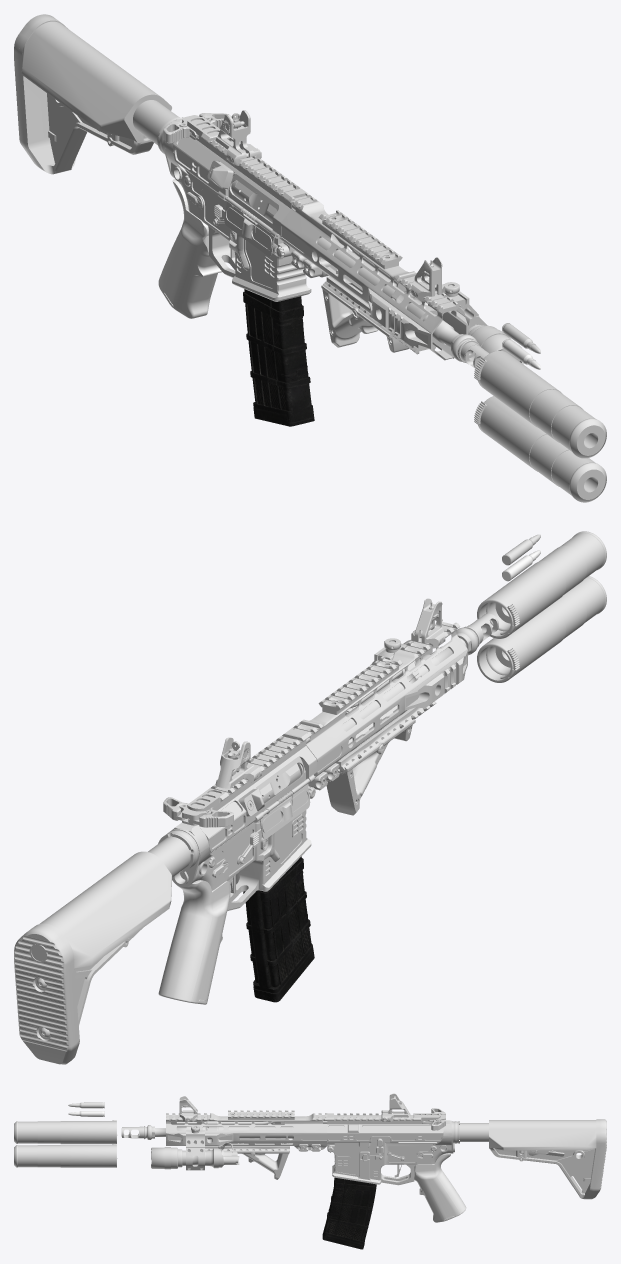
The model's file is AR-15 Sketchfab.fbx.
3 views of the same model, one above another, from view 1: azimuth 30°, elevation 25°; view 2: azimuth 150°, elevation 25°; view 3: azimuth 270°, elevation 25° (orthographic). The views are drawn at different scales.
Visible parts, largest first — view 1: Stock_low, Handguard_low, MAG.008_low, Silencer.001_low, Lower_low, Upper_low, Silencer.001_low.001, Grip.002_low, Magpul.005_low, Picatinny.012_low, Barrel.009_low, DustCover.001_low (+7 smaller); view 2: Stock_low, Handguard_low, Stock.002_low, MAG.008_low, Silencer.001_low, Lower_low, Silencer.001_low.001, Upper_low, Grip_low, Magpul.005_low, Grip.002_low, Picatinny.012_low (+7 smaller); view 3: Stock_low, Handguard_low, Lower_low, Upper_low, MAG.008_low, Silencer.001_low.001, Silencer.001_low, Grip.002_low, Magpul.005_low, Barrel.009_low, Grip_low, Picatinny.012_low (+13 smaller).
Part boxes in pixels (x1,y1,x2,y2): Stock_low: [19, 18, 171, 174]; Handguard_low: [280, 193, 467, 360]; MAG.008_low: [243, 289, 314, 423]; Silencer.001_low: [478, 351, 606, 458]; Lower_low: [165, 141, 311, 301]; Upper_low: [173, 117, 306, 256]; Silencer.001_low.001: [478, 396, 606, 502]; Grip.002_low: [158, 212, 217, 318]; Magpul.005_low: [321, 283, 408, 352]; Picatinny.012_low: [318, 210, 402, 269]; Barrel.009_low: [313, 234, 475, 358]; DustCover.001_low: [224, 196, 274, 256]; Stock_low: [33, 851, 172, 1059]; Handguard_low: [291, 619, 467, 785]; Stock.002_low: [14, 926, 76, 1064]; MAG.008_low: [243, 856, 314, 993]; Silencer.001_low: [477, 531, 606, 638]; Lower_low: [172, 786, 311, 910]; Silencer.001_low.001: [477, 576, 606, 682]; Upper_low: [187, 729, 316, 854]; Grip_low: [158, 880, 214, 1002]; Magpul.005_low: [326, 719, 415, 815]; Grip.002_low: [190, 881, 229, 1003]; Picatinny.012_low: [318, 656, 402, 714]; Stock_low: [489, 1119, 599, 1199]; Handguard_low: [166, 1113, 327, 1150]; Lower_low: [327, 1120, 451, 1185]; Upper_low: [327, 1113, 443, 1146]; MAG.008_low: [323, 1177, 376, 1244]; Silencer.001_low.001: [14, 1144, 116, 1167]; Silencer.001_low: [14, 1121, 116, 1143]; Grip.002_low: [414, 1164, 460, 1222]; Magpul.005_low: [223, 1150, 289, 1179]; Barrel.009_low: [155, 1126, 293, 1138]; Grip_low: [431, 1153, 466, 1213]; Picatinny.012_low: [228, 1110, 294, 1119].
Bounding box in the file's own units: 9.54 × 26.13 × 93.1.
